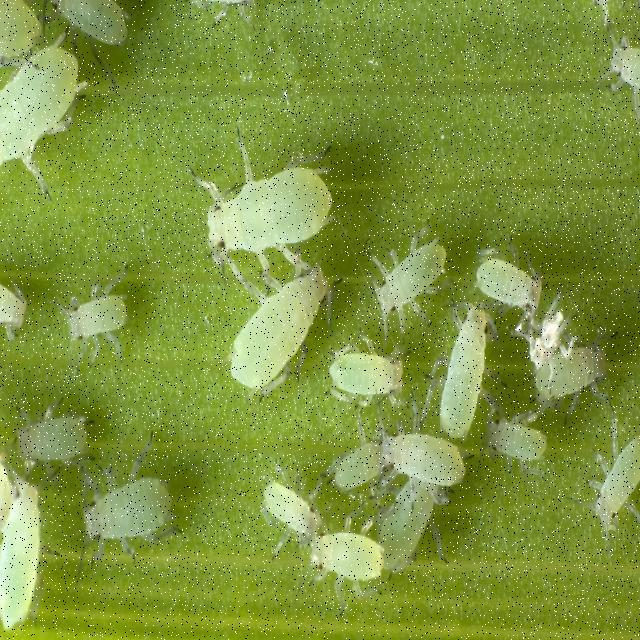Aphids: (166, 102, 367, 290), (223, 236, 343, 427), (1, 44, 111, 191), (31, 258, 154, 366), (72, 465, 192, 560), (356, 451, 436, 592), (438, 281, 494, 458), (511, 322, 621, 412), (475, 215, 563, 321), (354, 240, 463, 322), (9, 400, 106, 488), (315, 412, 398, 510), (485, 388, 570, 483), (374, 424, 472, 497), (317, 337, 412, 410), (255, 465, 330, 545), (311, 522, 385, 594)
